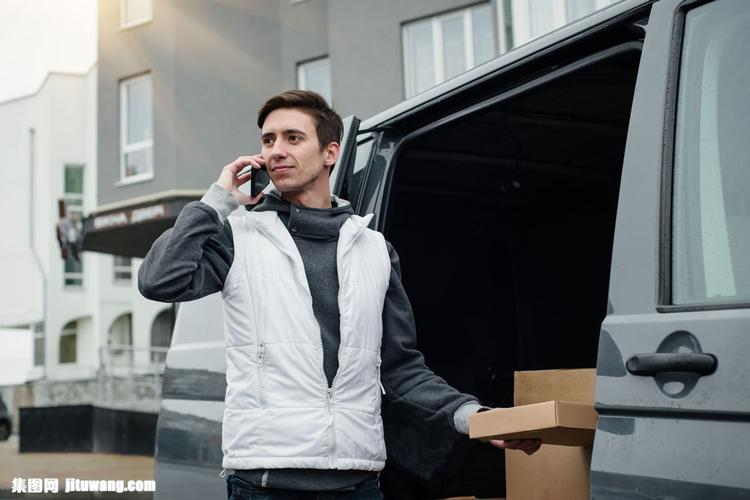calling: (217, 151, 274, 206)
